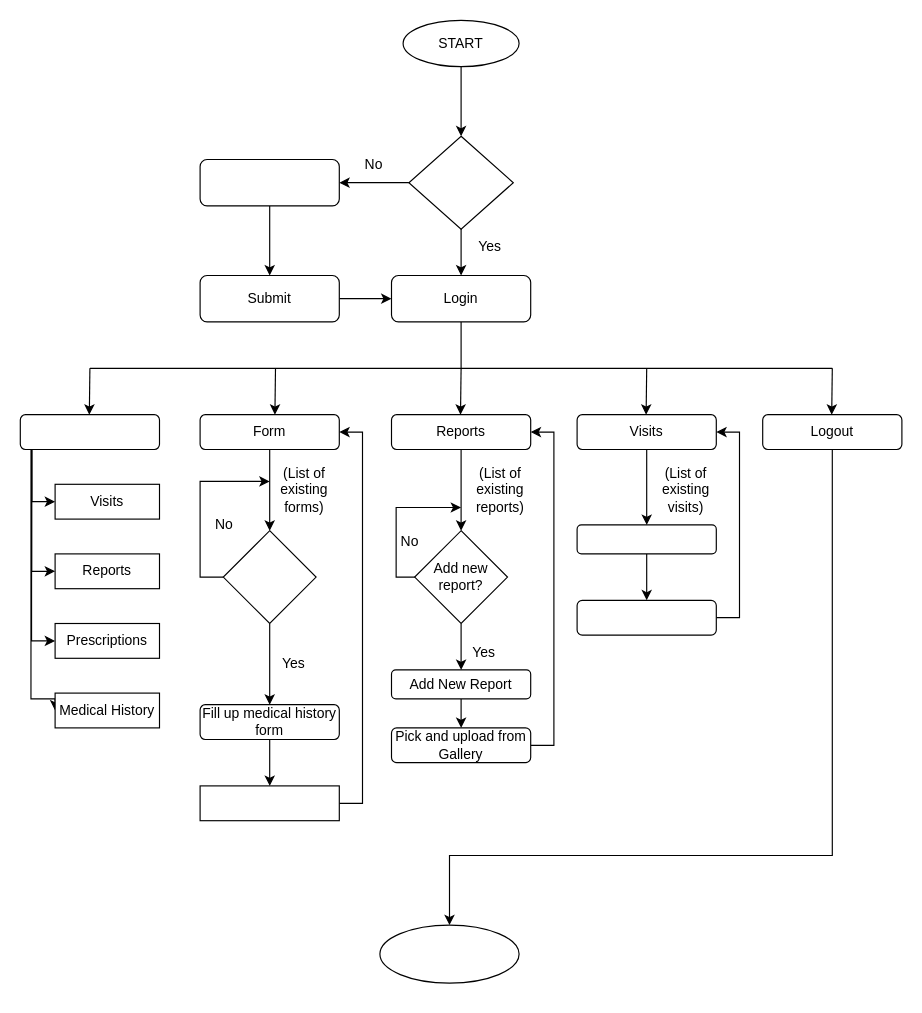
The diagram is 922 pixels wide and 1013 high, and some of its shapes have lost their labels. Each missing label, with the centre of its shape:
Add new form?: point 269,577
Add New Visit: point 646,539
Dashboard: point 89,431
END: point 449,953
Fill Visit form: point 646,617
Have an account?: point 460,182
Registrations: point 269,182
Save: point 269,803
